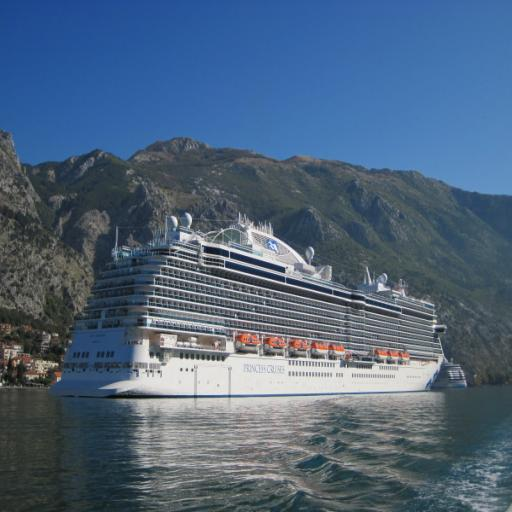cruises: (49, 212, 460, 403)
